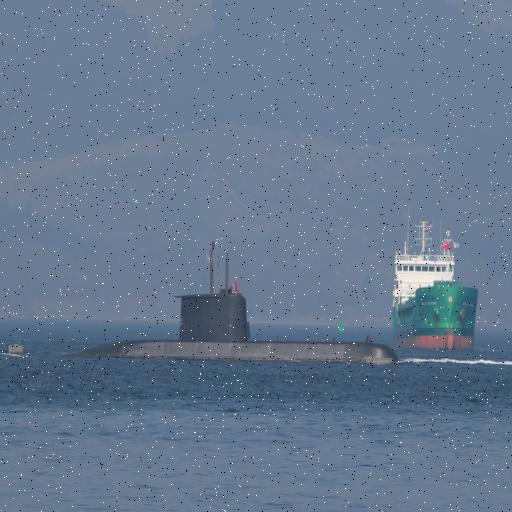submarine: (6, 232, 410, 357)
